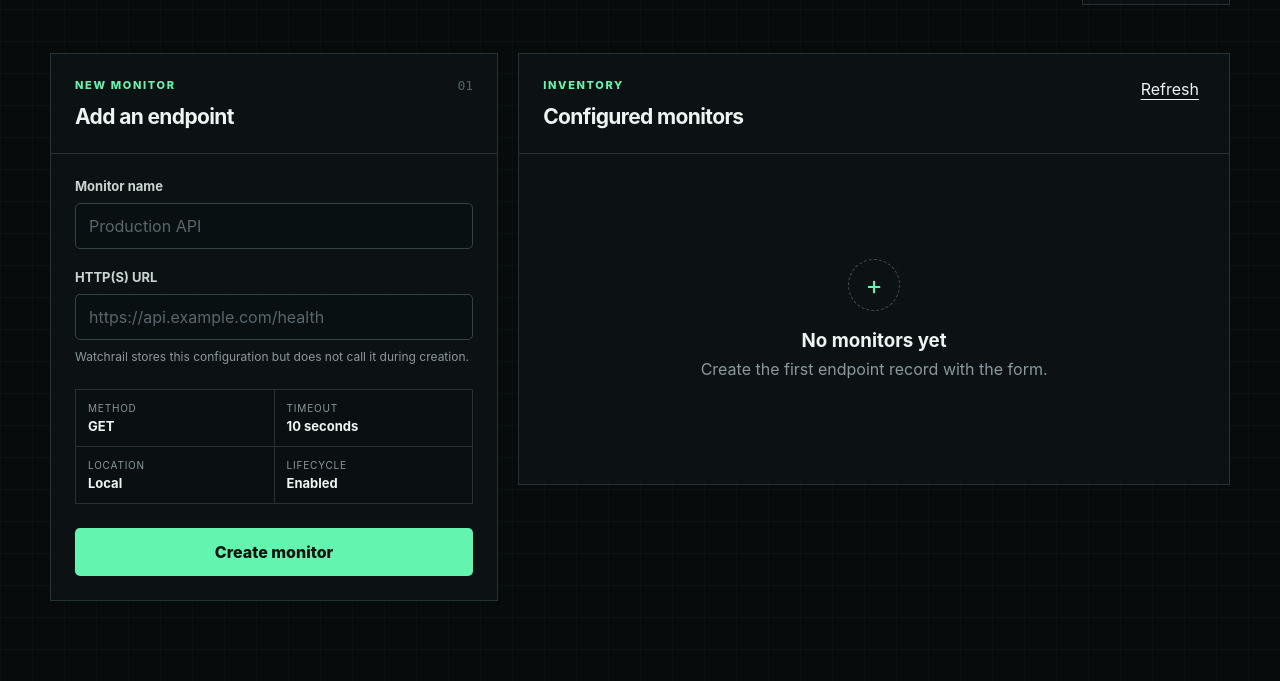
Scenario: Dashboard › renders field-level validation errors from the API
(page scrolled)
Expected: the heading "No monitors yet" is shown, x1=802 y1=328 x2=947 y2=352
Click the button "Create monitor" at [274, 552], box x1=75 y1=528 x2=473 y2=576
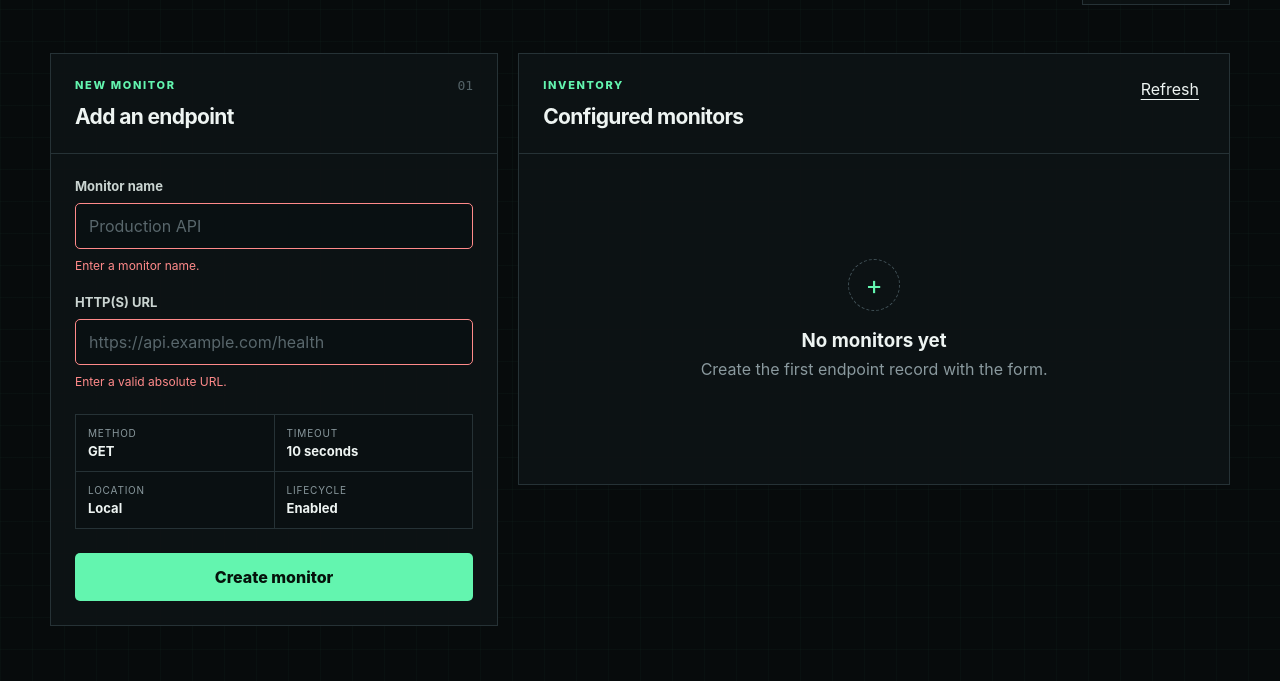
Expected: the text "Enter a monitor name." is shown, x1=75 y1=258 x2=200 y2=272
Expected: the text "Enter a valid absolute URL." is shown, x1=75 y1=374 x2=227 y2=389
